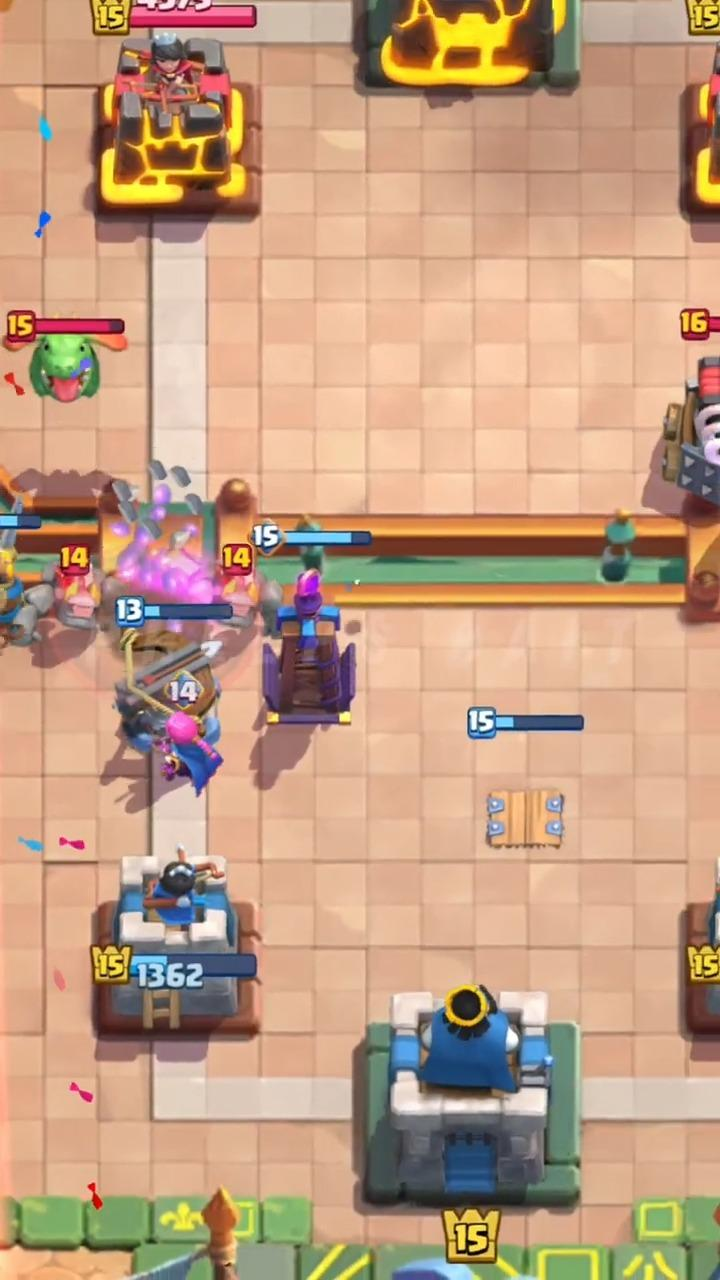archer: (158, 711, 222, 795)
baby dragon: (30, 333, 98, 403), (98, 335, 126, 350)
sparky: (663, 355, 719, 509)
tesla: (262, 569, 355, 726), (486, 789, 563, 847)
x-bow: (114, 629, 221, 754)
